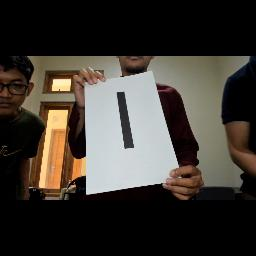i: (112, 84, 144, 158)
